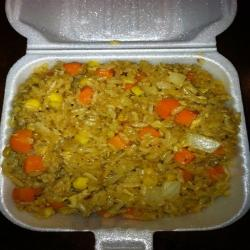rice: (14, 65, 236, 221)
